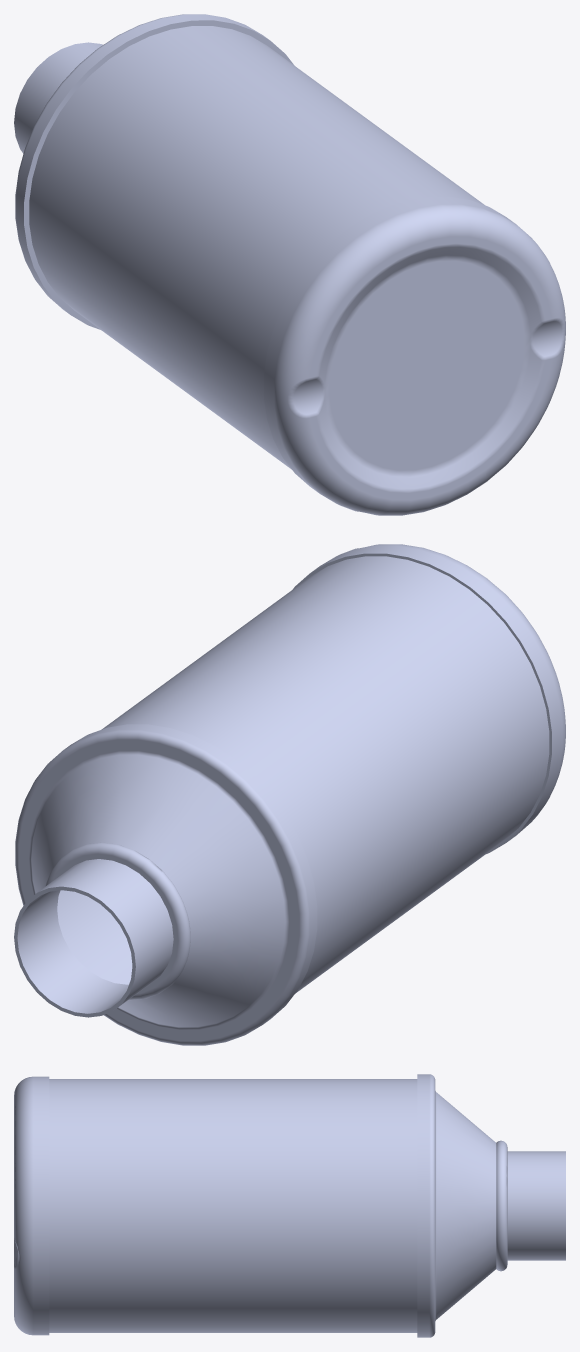
File: OILL BOTTLE 2.19.25.gltf
3 views of the same model, one above another, from view 1: azimuth 30°, elevation 25°; view 2: azimuth 150°, elevation 25°; view 3: azimuth 270°, elevation 25° (orthographic). The views are drawn at different scales.
Parts seen in each view (by area): view 1: 2.19.25; view 2: 2.19.25; view 3: 2.19.25.
Part boxes in pixels (<box>): 2.19.25: <box>14,14,565,515</box>; 2.19.25: <box>14,544,565,1045</box>; 2.19.25: <box>14,1074,565,1337</box>.
Bounding box in the file's own units: 0.0678 × 0.068 × 0.1425.
